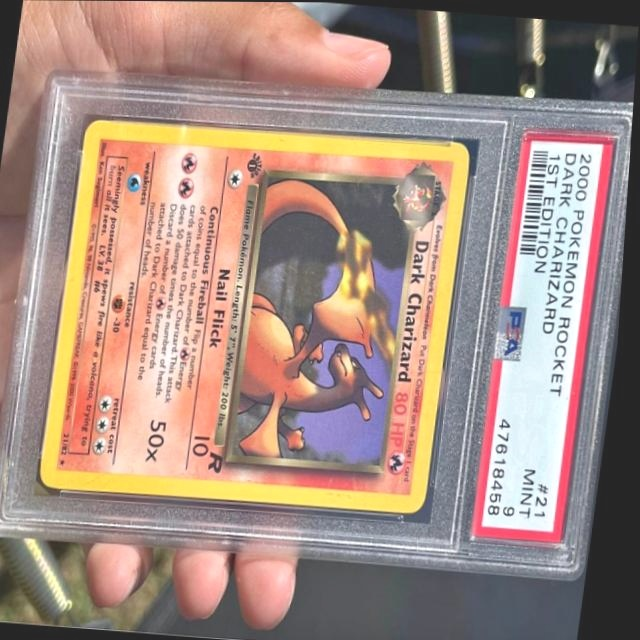card: (43, 116, 472, 515)
